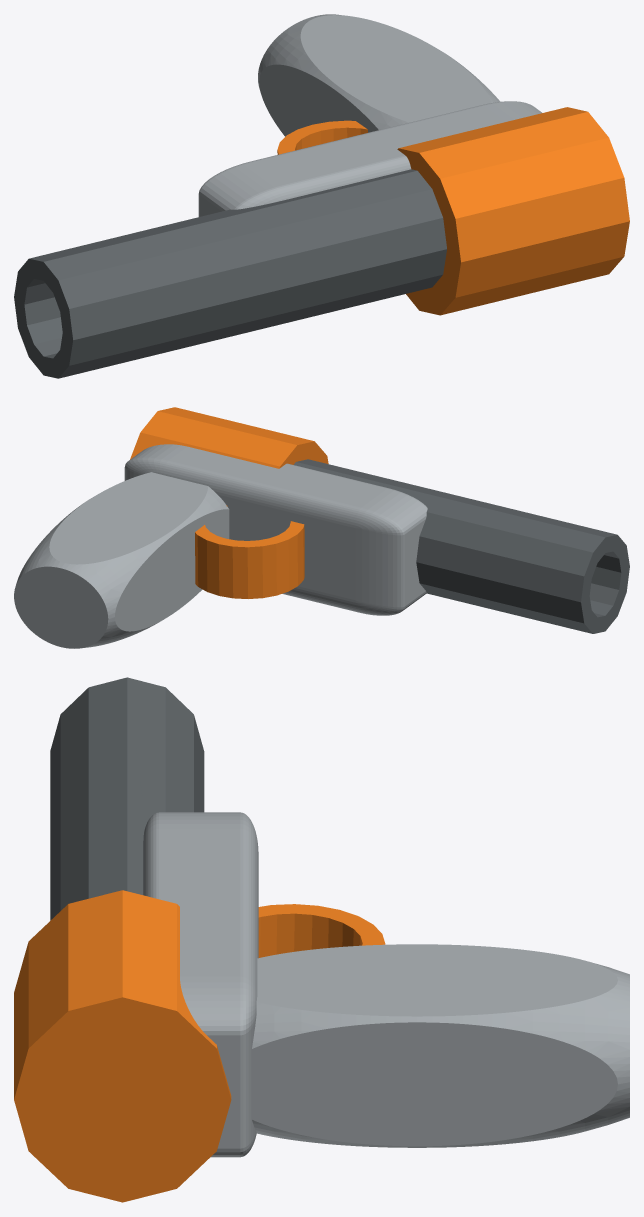
Rendered from tinker.obj.
3 renders of one model, top to bottom at view 1: azimuth 30°, elevation 25°; view 2: azimuth 150°, elevation 25°; view 3: azimuth 270°, elevation 25°, orthographic. The views are drawn at different scales.
Parts seen in each view (by area): view 1: group_0_6383466, group_0_16089887, group_0_10988977; view 2: group_0_10988977, group_0_6383466, group_0_16089887; view 3: group_0_10988977, group_0_16089887, group_0_6383466.
Boxes of the visible parts, <box> form: group_0_6383466: <box>14,169,446,378</box>; group_0_16089887: <box>277,107,629,315</box>; group_0_10988977: <box>198,14,541,216</box>; group_0_10988977: <box>14,444,427,648</box>; group_0_6383466: <box>294,459,629,633</box>; group_0_16089887: <box>130,407,328,598</box>; group_0_10988977: <box>143,812,629,1157</box>; group_0_16089887: <box>14,890,385,1202</box>; group_0_6383466: <box>50,677,204,920</box>.
Size of the model in its own units: 90 by 25 by 68.
